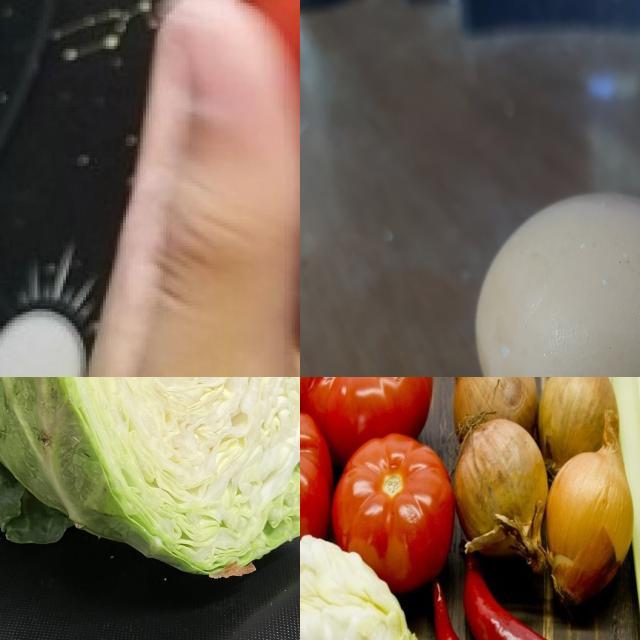cabbage: (1, 378, 301, 587)
egg: (475, 188, 640, 378)
onion: (458, 436, 539, 547), (556, 445, 618, 578), (552, 378, 616, 440), (453, 378, 528, 422)
tomato: (340, 441, 443, 565), (315, 378, 425, 430)
